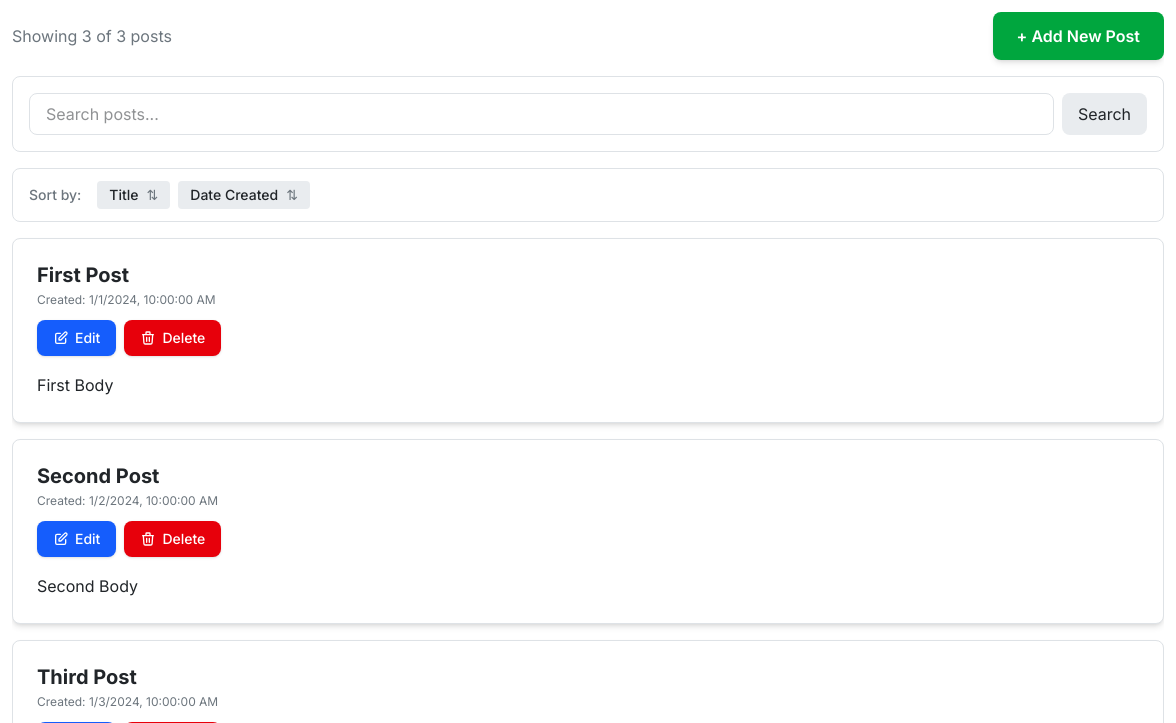
Scenario: PostsTable Component › Post Actions › should delete post when confirmed
The width and height of the screenshot is (1176, 723).
Expected: the heading "First Post" is shown, [37,263,129,287]
Click the button with aria-label "delete post": (173, 338) [124,320,221,356]
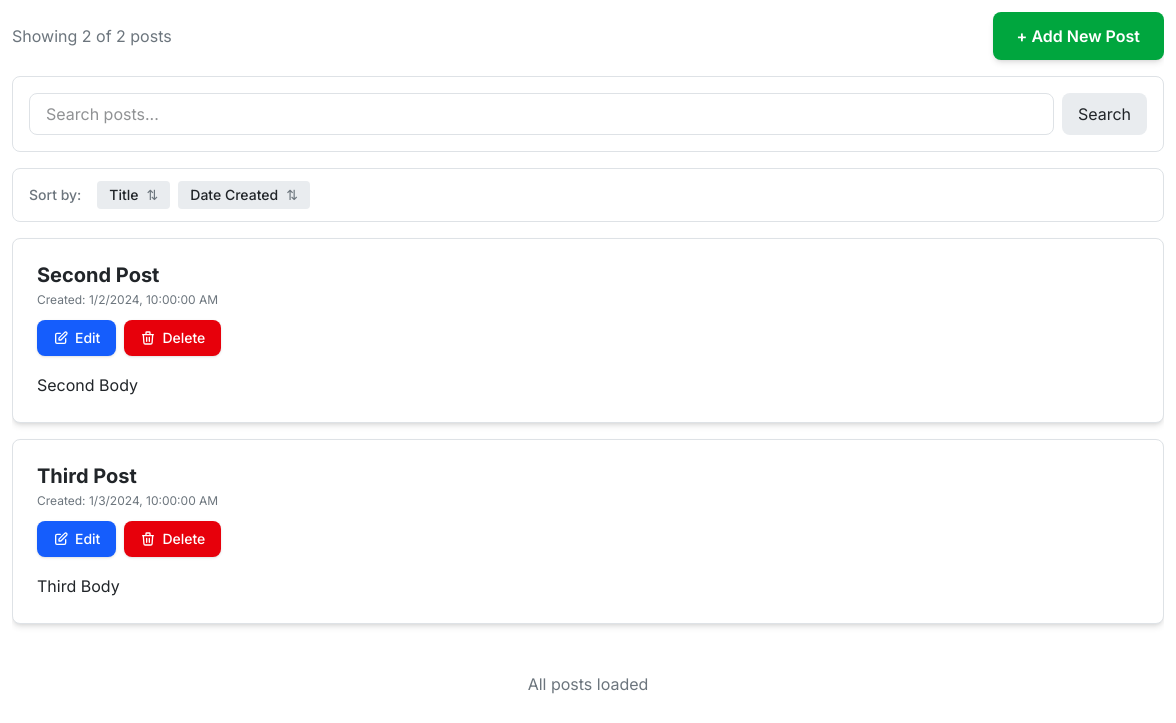
Result: the heading "First Post" is gone
